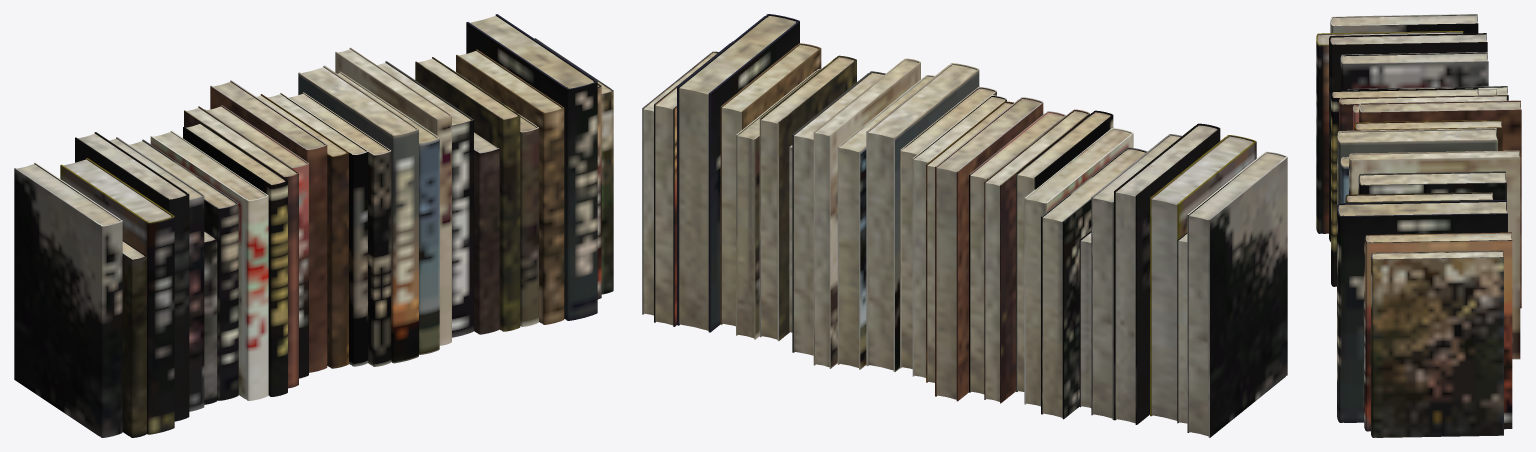
Rendered from 052_book01a.fbx.
The picture shows the model from 3 angles, left to right: view 1: azimuth 30°, elevation 25°; view 2: azimuth 150°, elevation 25°; view 3: azimuth 270°, elevation 25°; orthographic projection. The views are drawn at different scales.
Visible parts, largest first — view 1: LOD_1_Group_0_Sub_1__sm36_052_Book01A_A_Mat, LOD_1_Group_23_Sub_1__sm36_052_Book01A_B_Mat, LOD_1_Group_15_Sub_1__sm36_052_Book01A_B_Mat, LOD_1_Group_2_Sub_1__sm36_052_Book01A_A_Mat, LOD_1_Group_7_Sub_1__sm36_052_Book01A_B_Mat, LOD_1_Group_22_Sub_1__sm36_052_Book01A_B_Mat, LOD_1_Group_20_Sub_1__sm36_052_Book01A_B_Mat, LOD_1_Group_11_Sub_1__sm36_052_Book01A_B_Mat, LOD_1_Group_3_Sub_1__sm36_052_Book01A_A_Mat, LOD_1_Group_8_Sub_1__sm36_052_Book01A_B_Mat, LOD_1_Group_14_Sub_1__sm36_052_Book01A_B_Mat, LOD_1_Group_6_Sub_1__sm36_052_Book01A_B_Mat (+14 smaller); view 2: LOD_1_Group_0_Sub_1__sm36_052_Book01A_A_Mat, LOD_1_Group_23_Sub_1__sm36_052_Book01A_B_Mat, LOD_1_Group_15_Sub_1__sm36_052_Book01A_B_Mat, LOD_1_Group_3_Sub_1__sm36_052_Book01A_A_Mat, LOD_1_Group_11_Sub_1__sm36_052_Book01A_B_Mat, LOD_1_Group_2_Sub_1__sm36_052_Book01A_A_Mat, LOD_1_Group_6_Sub_1__sm36_052_Book01A_B_Mat, LOD_1_Group_20_Sub_1__sm36_052_Book01A_B_Mat, LOD_1_Group_17_Sub_1__sm36_052_Book01A_B_Mat, LOD_1_Group_9_Sub_1__sm36_052_Book01A_B_Mat, LOD_1_Group_16_Sub_1__sm36_052_Book01A_B_Mat, LOD_1_Group_22_Sub_1__sm36_052_Book01A_B_Mat (+14 smaller); view 3: LOD_1_Group_25_Sub_1__sm36_052_Book01A_B_Mat, LOD_1_Group_23_Sub_1__sm36_052_Book01A_B_Mat, LOD_1_Group_17_Sub_1__sm36_052_Book01A_B_Mat, LOD_1_Group_24_Sub_1__sm36_052_Book01A_B_Mat, LOD_1_Group_4_Sub_1__sm36_052_Book01A_A_Mat, LOD_1_Group_11_Sub_1__sm36_052_Book01A_B_Mat, LOD_1_Group_15_Sub_1__sm36_052_Book01A_B_Mat, LOD_1_Group_3_Sub_1__sm36_052_Book01A_A_Mat, LOD_1_Group_18_Sub_1__sm36_052_Book01A_B_Mat, LOD_1_Group_2_Sub_1__sm36_052_Book01A_A_Mat, LOD_1_Group_0_Sub_1__sm36_052_Book01A_A_Mat, LOD_1_Group_8_Sub_1__sm36_052_Book01A_B_Mat (+5 smaller).
Boxes of the visible parts, <box> form: LOD_1_Group_0_Sub_1__sm36_052_Book01A_A_Mat: <box>14,162,122,437</box>; LOD_1_Group_23_Sub_1__sm36_052_Book01A_B_Mat: <box>466,14,597,320</box>; LOD_1_Group_15_Sub_1__sm36_052_Book01A_B_Mat: <box>298,65,418,363</box>; LOD_1_Group_2_Sub_1__sm36_052_Book01A_A_Mat: <box>60,158,174,434</box>; LOD_1_Group_7_Sub_1__sm36_052_Book01A_B_Mat: <box>150,130,268,400</box>; LOD_1_Group_22_Sub_1__sm36_052_Book01A_B_Mat: <box>456,49,564,324</box>; LOD_1_Group_20_Sub_1__sm36_052_Book01A_B_Mat: <box>415,57,520,331</box>; LOD_1_Group_11_Sub_1__sm36_052_Book01A_B_Mat: <box>210,80,327,372</box>; LOD_1_Group_3_Sub_1__sm36_052_Book01A_A_Mat: <box>75,132,189,421</box>; LOD_1_Group_8_Sub_1__sm36_052_Book01A_B_Mat: <box>183,122,287,396</box>; LOD_1_Group_14_Sub_1__sm36_052_Book01A_B_Mat: <box>286,92,391,366</box>; LOD_1_Group_6_Sub_1__sm36_052_Book01A_B_Mat: <box>129,139,238,400</box>; LOD_1_Group_0_Sub_1__sm36_052_Book01A_A_Mat: <box>1187,151,1287,437</box>; LOD_1_Group_23_Sub_1__sm36_052_Book01A_B_Mat: <box>677,14,799,332</box>; LOD_1_Group_15_Sub_1__sm36_052_Book01A_B_Mat: <box>866,63,979,371</box>; LOD_1_Group_3_Sub_1__sm36_052_Book01A_A_Mat: <box>1114,123,1220,424</box>; LOD_1_Group_11_Sub_1__sm36_052_Book01A_B_Mat: <box>935,97,1043,401</box>; LOD_1_Group_2_Sub_1__sm36_052_Book01A_A_Mat: <box>1150,135,1256,420</box>; LOD_1_Group_6_Sub_1__sm36_052_Book01A_B_Mat: <box>1041,147,1147,419</box>; LOD_1_Group_20_Sub_1__sm36_052_Book01A_B_Mat: <box>759,55,856,341</box>; LOD_1_Group_17_Sub_1__sm36_052_Book01A_B_Mat: <box>813,58,920,368</box>; LOD_1_Group_9_Sub_1__sm36_052_Book01A_B_Mat: <box>984,109,1089,403</box>; LOD_1_Group_16_Sub_1__sm36_052_Book01A_B_Mat: <box>837,75,934,369</box>; LOD_1_Group_22_Sub_1__sm36_052_Book01A_B_Mat: <box>720,43,821,326</box>; LOD_1_Group_25_Sub_1__sm36_052_Book01A_B_Mat: <box>1371,250,1503,437</box>; LOD_1_Group_23_Sub_1__sm36_052_Book01A_B_Mat: <box>1337,200,1507,422</box>; LOD_1_Group_17_Sub_1__sm36_052_Book01A_B_Mat: <box>1349,150,1520,359</box>; LOD_1_Group_24_Sub_1__sm36_052_Book01A_B_Mat: <box>1364,232,1512,431</box>; LOD_1_Group_4_Sub_1__sm36_052_Book01A_A_Mat: <box>1340,52,1488,90</box>; LOD_1_Group_11_Sub_1__sm36_052_Book01A_B_Mat: <box>1359,100,1521,308</box>; LOD_1_Group_15_Sub_1__sm36_052_Book01A_B_Mat: <box>1337,128,1497,204</box>; LOD_1_Group_3_Sub_1__sm36_052_Book01A_A_Mat: <box>1329,33,1487,241</box>; LOD_1_Group_18_Sub_1__sm36_052_Book01A_B_Mat: <box>1358,171,1506,211</box>; LOD_1_Group_2_Sub_1__sm36_052_Book01A_A_Mat: <box>1316,31,1463,233</box>; LOD_1_Group_0_Sub_1__sm36_052_Book01A_A_Mat: <box>1330,14,1478,33</box>; LOD_1_Group_8_Sub_1__sm36_052_Book01A_B_Mat: <box>1331,88,1478,286</box>.
Bounding box in the file's own units: 0.6693 × 0.2739 × 0.2471.
